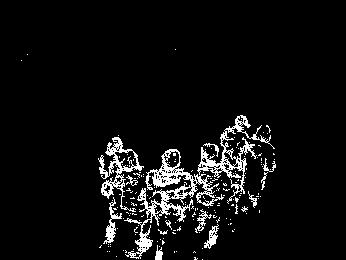person: (96, 134, 152, 260), (149, 149, 194, 260), (237, 121, 279, 212), (191, 141, 223, 249), (220, 111, 253, 215)
